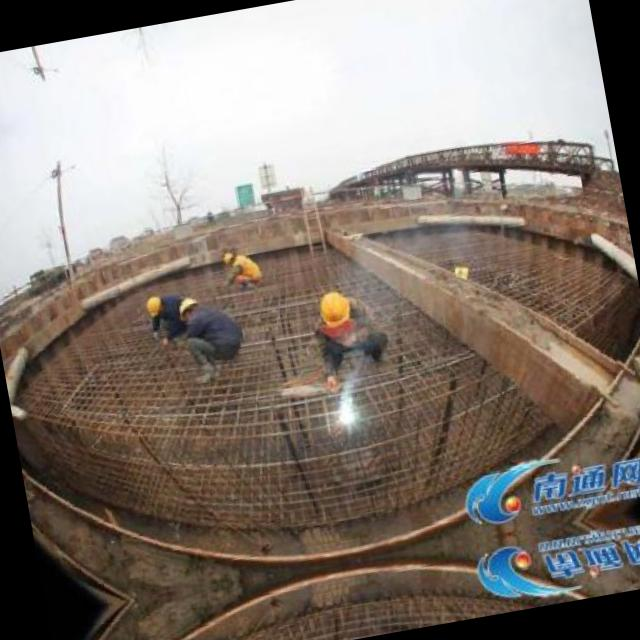helmet: (312, 285, 356, 338), (173, 290, 206, 321), (140, 289, 167, 319), (218, 246, 236, 264)
